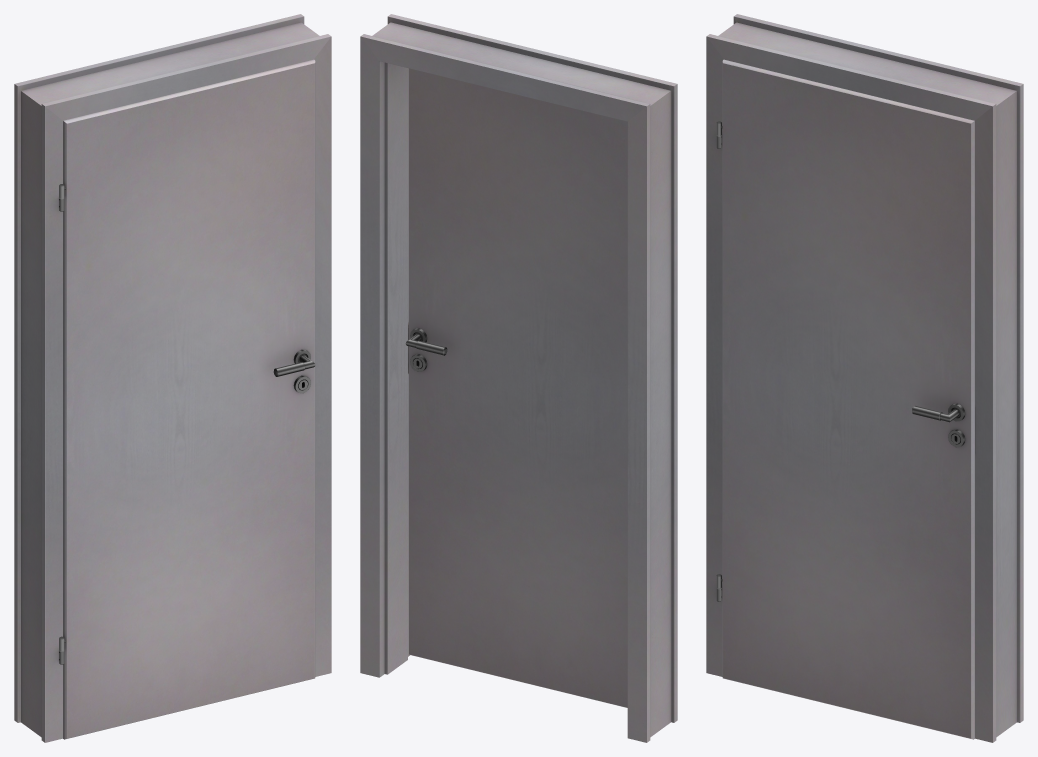
The model's file is door.glb.
The picture shows the model from 3 angles, left to right: view 1: azimuth 30°, elevation 25°; view 2: azimuth 150°, elevation 25°; view 3: azimuth 330°, elevation 25°; orthographic projection.
Visible parts, largest first — view 1: Plane.001, Plane.002; view 2: Plane.001, Plane.002; view 3: Plane.001, Plane.002.
Part boxes in pixels (x1=…): Plane.001: x1=59, y1=59, x2=315, y2=739; Plane.002: x1=14, y1=14, x2=331, y2=742; Plane.001: x1=408, y1=68, x2=627, y2=707; Plane.002: x1=360, y1=14, x2=677, y2=742; Plane.001: x1=716, y1=59, x2=974, y2=739; Plane.002: x1=706, y1=14, x2=1023, y2=742.
Size of the model in its own units: 0.97 by 2.06 by 0.2606.
Materials: 2 (2 with a texture image).
